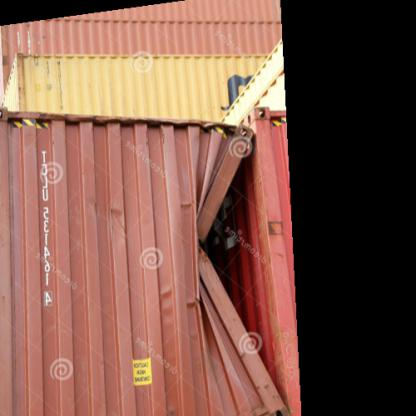Damage: (178, 125, 292, 396)
